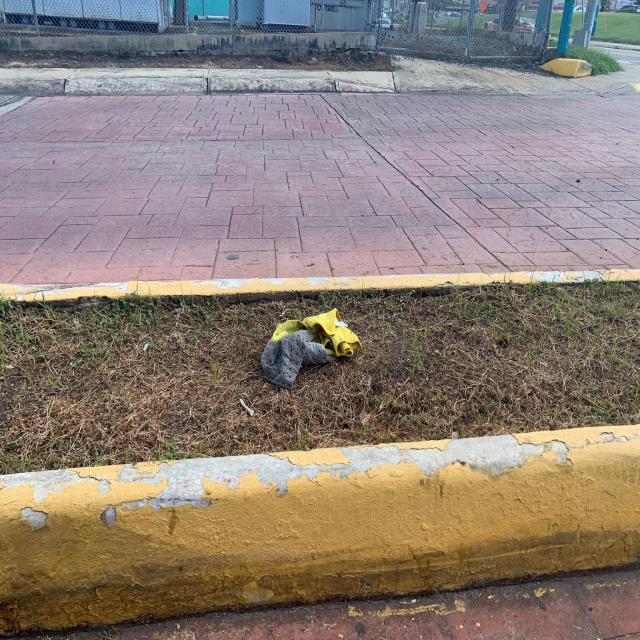litter: (267, 309, 349, 369)
